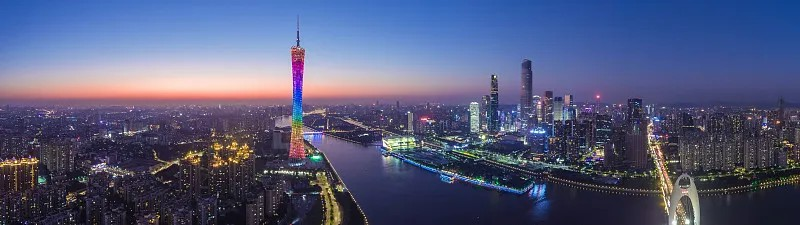Canton: (289, 15, 309, 162)
